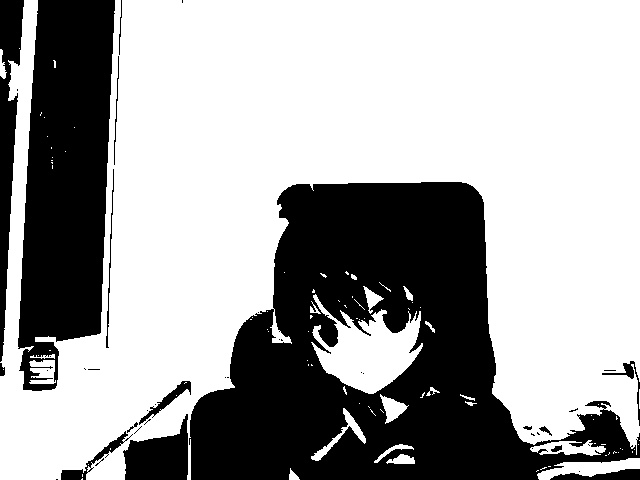face: (269, 252, 444, 396)
